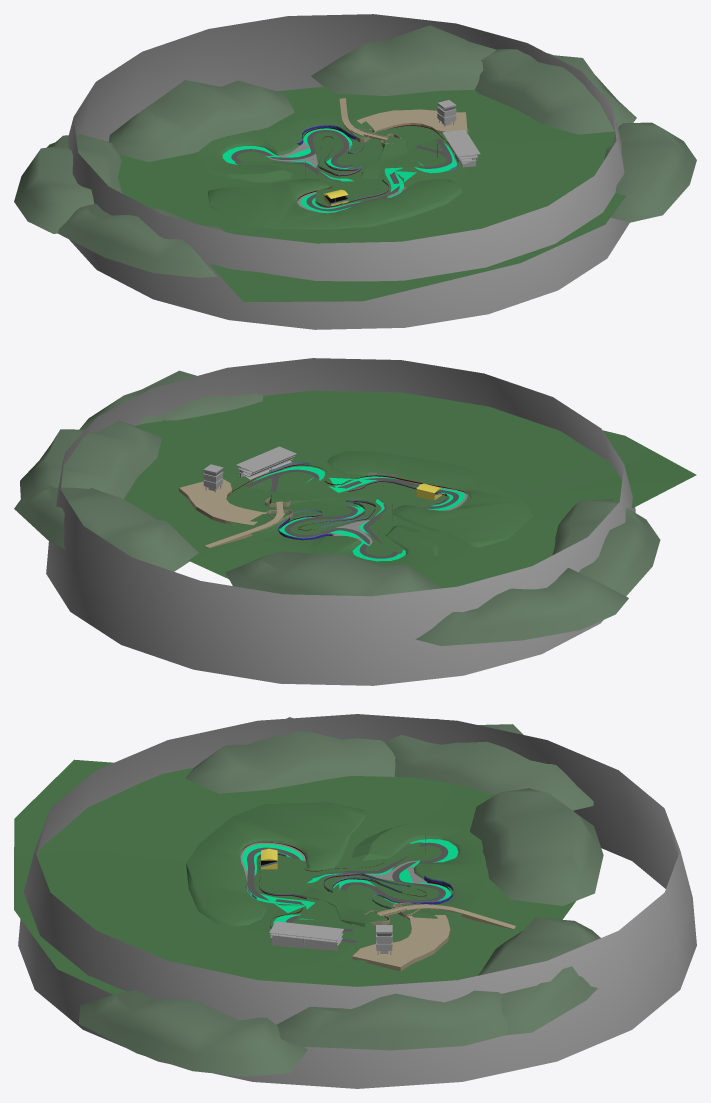
3 views of the same model, one above another, from view 1: azimuth 30°, elevation 25°; view 2: azimuth 150°, elevation 25°; view 3: azimuth 270°, elevation 25° (orthographic). The views are drawn at different scales.
Parts seen in each view (by area): view 1: pSphere1, polySurface11, polySurface23, polySurface17, polySurface15, polySurface19, polySurface18, polySurface16, polySurface24, polySurface12, polySurface107, polySurface28 (+3 smaller); view 2: pSphere1, polySurface11, polySurface23, polySurface19, polySurface15, polySurface17, polySurface18, polySurface24, polySurface16, polySurface107, polySurface12, pCube6 (+3 smaller); view 3: pSphere1, polySurface11, polySurface23, polySurface17, polySurface15, polySurface18, polySurface19, polySurface16, polySurface24, polySurface107, polySurface12, pCube6 (+4 smaller).
Boxes of the visible parts, <box> form: pSphere1: <box>67,14,629,329</box>; polySurface11: <box>118,86,625,301</box>; polySurface23: <box>311,25,696,222</box>; polySurface17: <box>108,80,294,162</box>; polySurface15: <box>208,178,462,230</box>; polySurface19: <box>14,134,122,233</box>; polySurface18: <box>58,203,224,277</box>; polySurface16: <box>197,114,469,182</box>; polySurface24: <box>313,132,446,207</box>; polySurface12: <box>231,130,452,211</box>; polySurface107: <box>356,109,467,133</box>; polySurface28: <box>222,128,456,213</box>; pSphere1: <box>46,358,635,685</box>; polySurface11: <box>124,390,696,588</box>; polySurface23: <box>14,370,263,571</box>; polySurface19: <box>415,568,628,645</box>; polySurface15: <box>327,451,532,547</box>; polySurface17: <box>225,551,441,596</box>; polySurface18: <box>552,499,660,596</box>; polySurface24: <box>249,472,449,534</box>; polySurface16: <box>228,512,438,566</box>; polySurface107: <box>179,479,268,525</box>; polySurface12: <box>246,469,458,558</box>; pCube6: <box>236,446,296,480</box>; pSphere1: <box>18,714,696,1088</box>; polySurface11: <box>14,759,575,994</box>; polySurface23: <box>78,917,600,1076</box>; polySurface17: <box>470,788,603,905</box>; polySurface15: <box>186,802,365,926</box>; polySurface18: <box>185,717,395,793</box>; polySurface19: <box>385,719,593,810</box>; polySurface16: <box>351,822,482,962</box>; polySurface24: <box>254,854,439,940</box>; polySurface107: <box>352,915,450,971</box>; polySurface12: <box>247,842,448,943</box>; pCube6: <box>269,921,343,950</box>.
Size of the model in its own units: 390 by 51.42 by 335.
